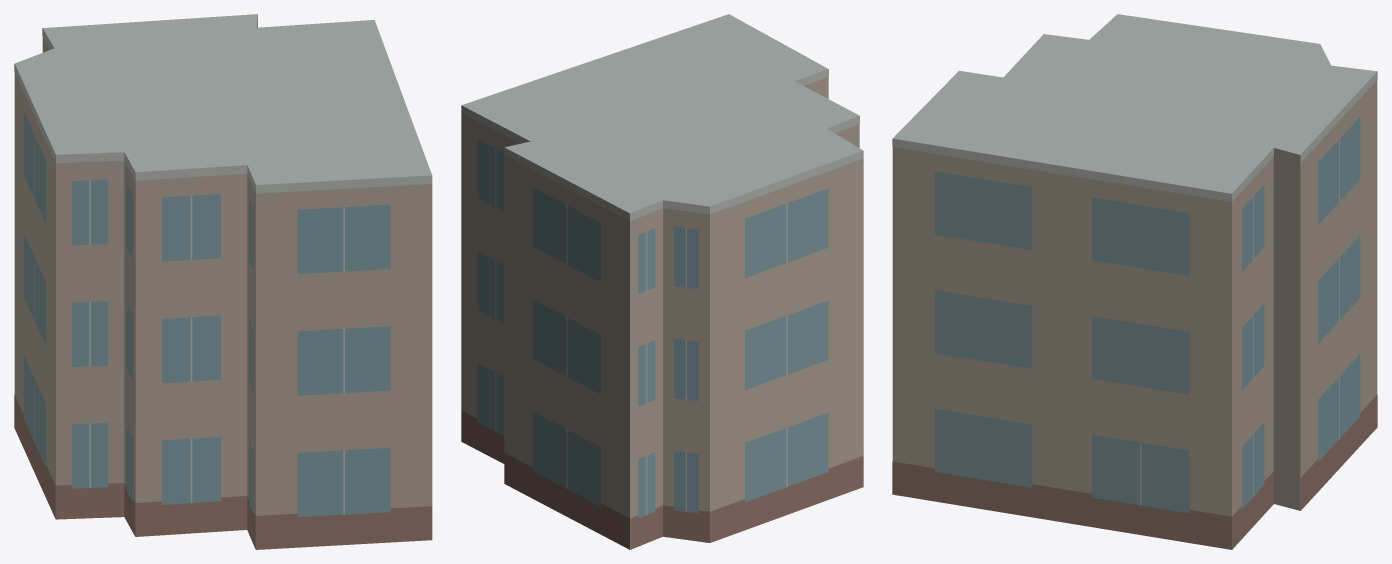
Rendered from survey-upis-32755902.glb.
The picture shows the model from 3 angles, left to right: view 1: azimuth 30°, elevation 25°; view 2: azimuth 150°, elevation 25°; view 3: azimuth 270°, elevation 25°; orthographic projection. The views are drawn at different scales.
Visible parts, largest first — view 1: survey-upis-32755902.tmp; view 2: survey-upis-32755902.tmp; view 3: survey-upis-32755902.tmp.
Part boxes in pixels (x1,y1,x2,y2): survey-upis-32755902.tmp: (14,14,432,549); survey-upis-32755902.tmp: (461,14,863,549); survey-upis-32755902.tmp: (892,14,1377,549).
Bounding box in the file's own units: 11.38 × 10.5 × 12.97.
